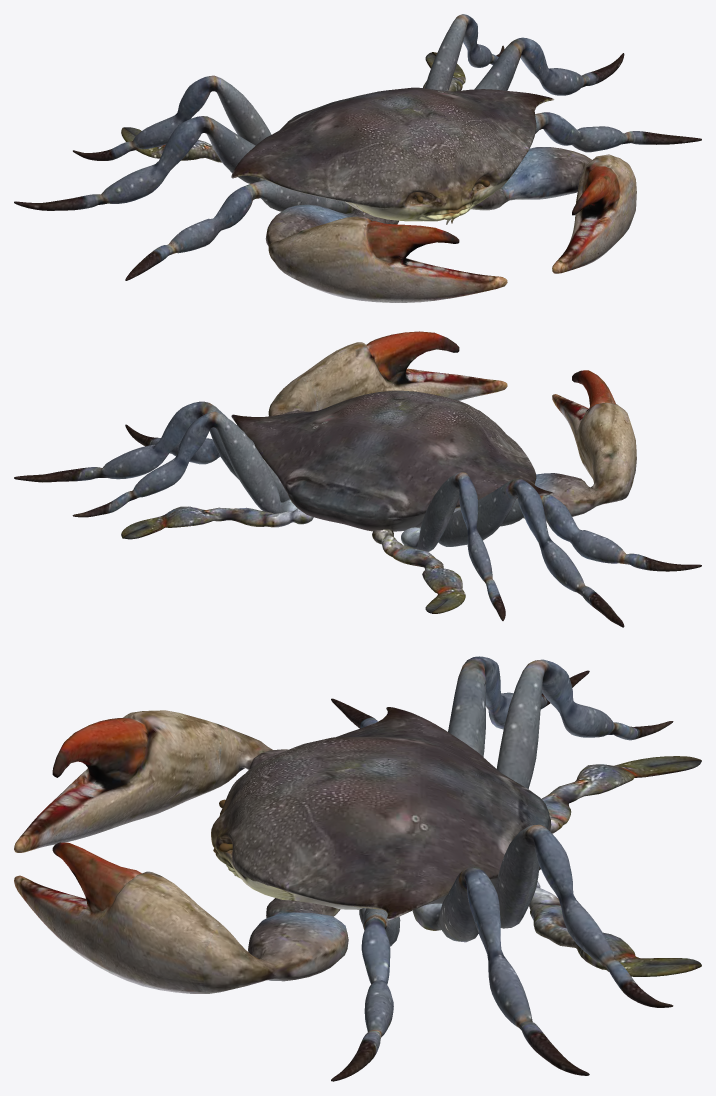
The model's file is 10012_crab_v2_iterations-1.obj.
3 renders of one model, top to bottom at view 1: azimuth 30°, elevation 25°; view 2: azimuth 150°, elevation 25°; view 3: azimuth 270°, elevation 25°, orthographic. The views are drawn at different scales.
Parts seen in each view (by area): view 1: _crab; view 2: _crab; view 3: _crab.
Boxes of the visible parts, x1=… form: _crab: x1=14, y1=14, x2=701, y2=302; _crab: x1=14, y1=331, x2=701, y2=627; _crab: x1=14, y1=656, x2=701, y2=1081.
Size of the model in its own units: 7.05 by 1.26 by 5.08.
Materials: 1 (1 with a texture image).
